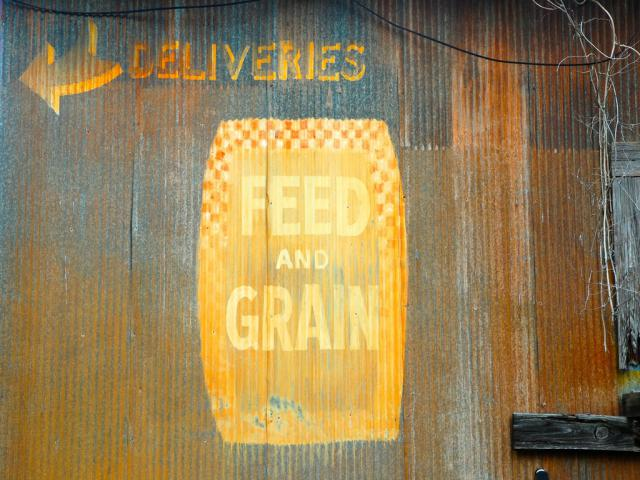Door-handle: (503, 390, 640, 458)
